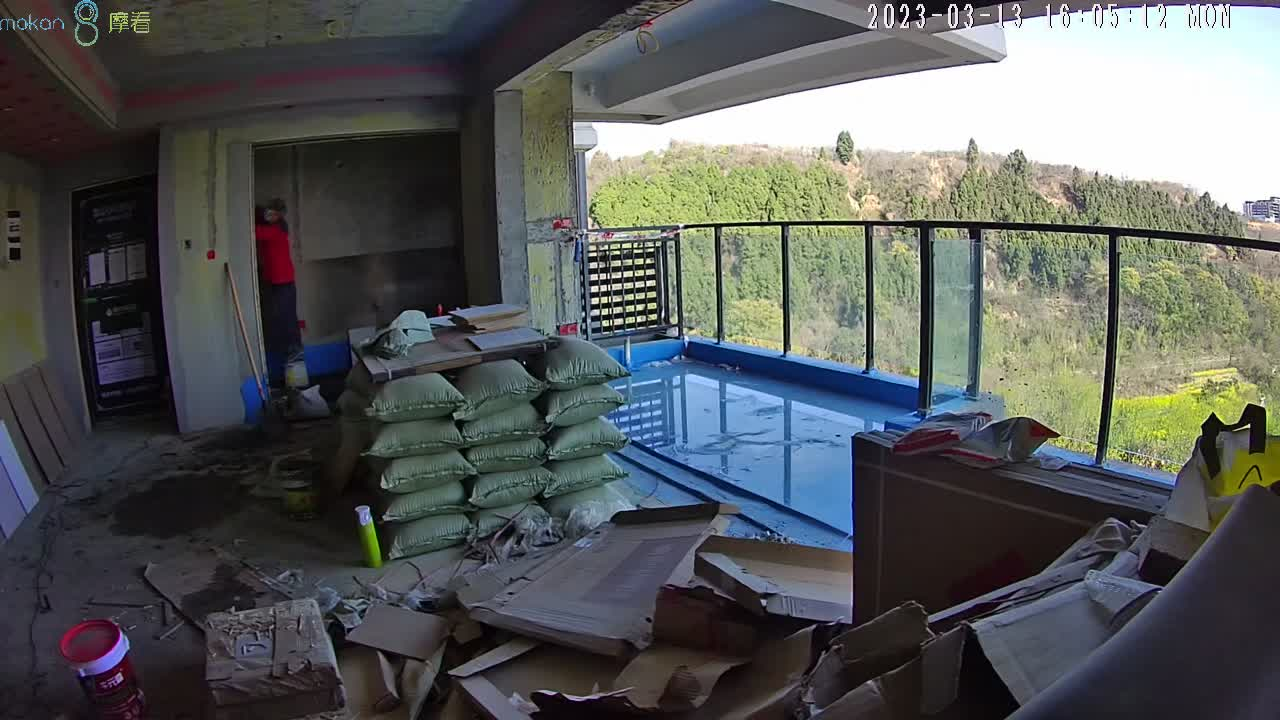people: (250, 194, 299, 390)
window: (569, 107, 1278, 473)
